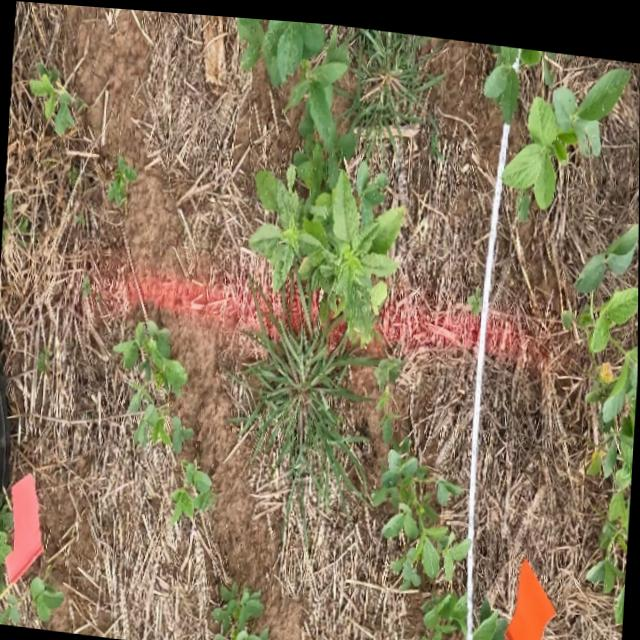grassy_weed: (243, 294, 368, 525), (348, 22, 440, 168)
soy_plant: (238, 14, 404, 331), (563, 215, 639, 614), (373, 353, 469, 583), (503, 61, 628, 211), (115, 319, 192, 451), (485, 40, 537, 110), (30, 66, 82, 132), (214, 584, 270, 640), (174, 458, 216, 517), (0, 502, 20, 624), (421, 586, 465, 640), (108, 156, 137, 205), (30, 577, 63, 620), (474, 597, 507, 640), (5, 196, 28, 241), (36, 348, 55, 373)
